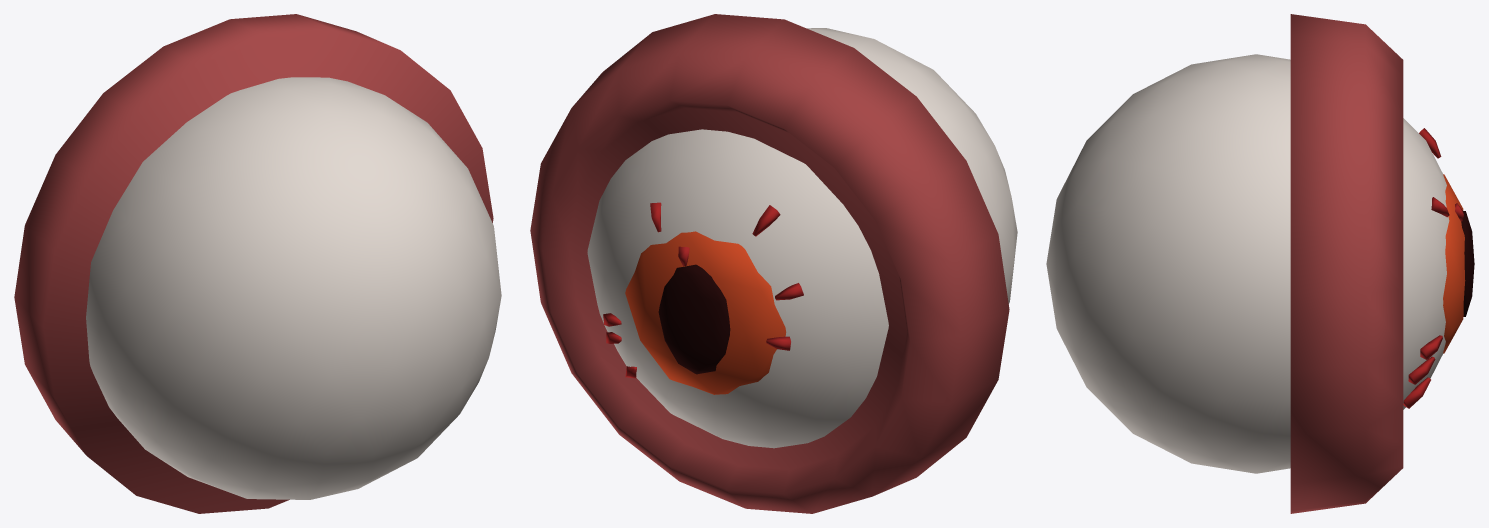
Rendered from wall_of_flesh_eye.glb.
The picture shows the model from 3 angles, left to right: view 1: azimuth 30°, elevation 25°; view 2: azimuth 150°, elevation 25°; view 3: azimuth 270°, elevation 25°; orthographic projection. The views are drawn at different scales.
Parts seen in each view (by area): view 1: maw_eye; view 2: maw_eye; view 3: maw_eye.
Boxes of the visible parts, <box> form: maw_eye: <box>14,14,501,513</box>; maw_eye: <box>530,14,1017,513</box>; maw_eye: <box>1046,14,1474,513</box>.
Size of the model in its own units: 3.36 by 3.36 by 2.86.
